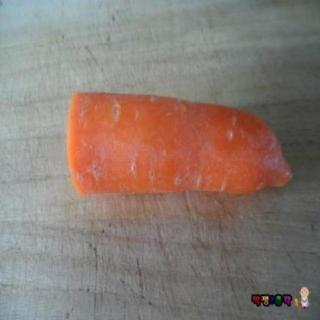carrot: (66, 90, 296, 200)
